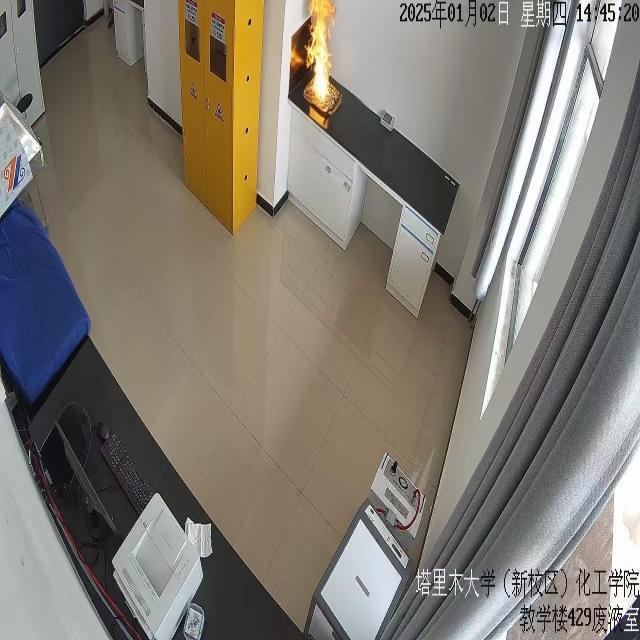smoke: (302, 1, 336, 110)
